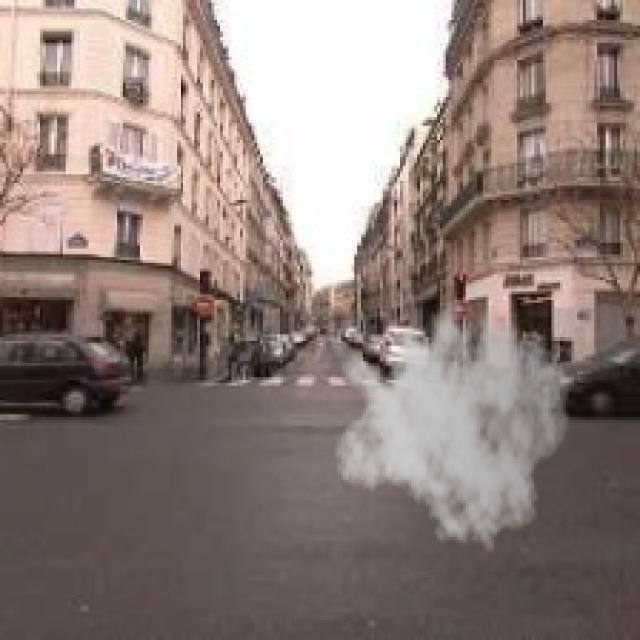Smoke: (334, 277, 572, 554)
